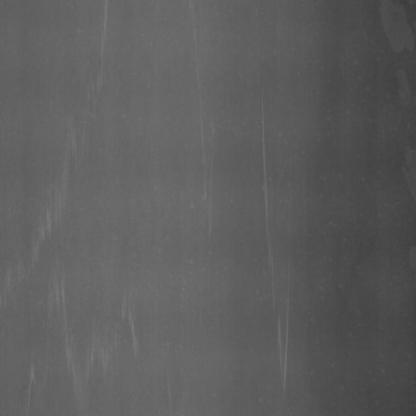silk_spot: (250, 105, 304, 405), (38, 268, 138, 390), (31, 100, 99, 242), (192, 100, 225, 226)
